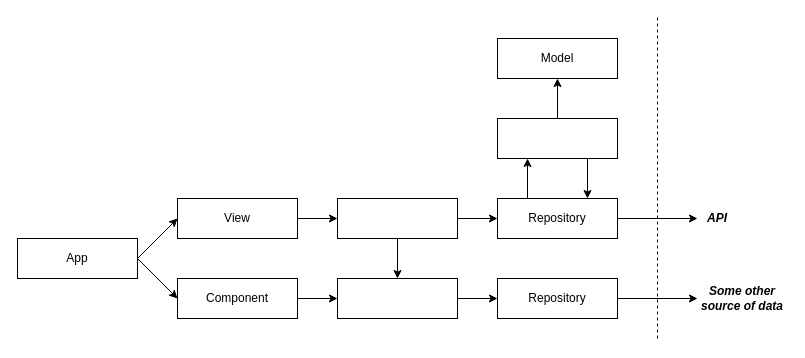
Image size: 805x358. Some labels were removed from this diagram. Each missing label, with the box of its shape:
AppModel: (336, 278, 458, 318)
Mapper: (496, 118, 618, 158)
ViewModel: (336, 198, 458, 238)
